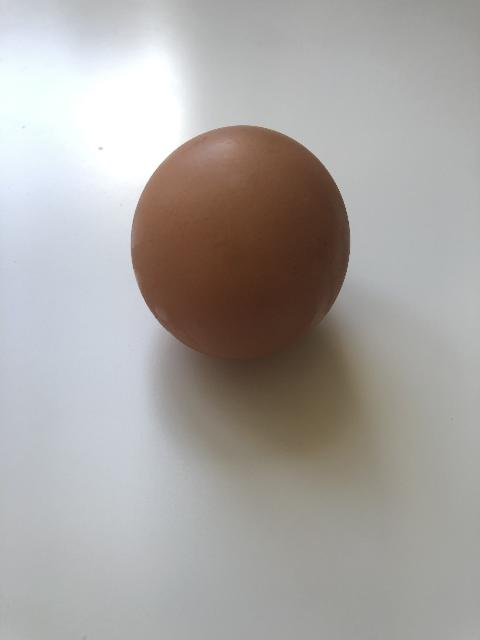Sano: (129, 123, 351, 361)
